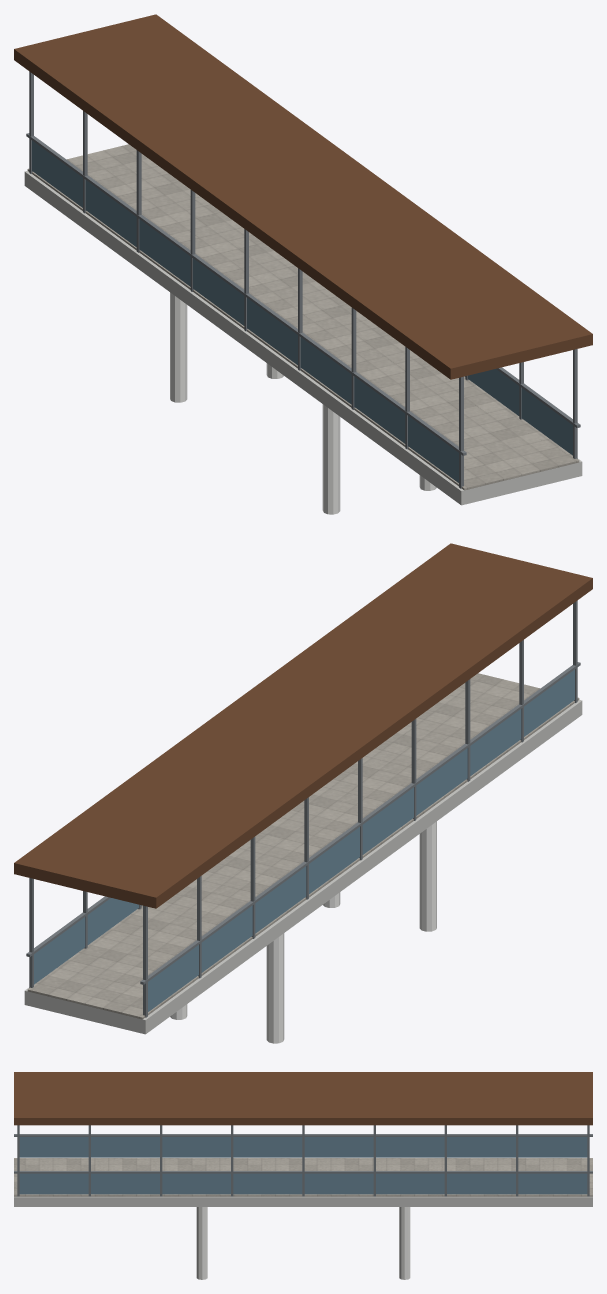
3 renders of one model, top to bottom at view 1: azimuth 30°, elevation 25°; view 2: azimuth 150°, elevation 25°; view 3: azimuth 270°, elevation 25°, orthographic. The views are drawn at different scales.
Parts seen in each view (by area): view 1: court-bridge__brown, court-bridge__stone, court-bridge__glass, court-bridge__concrete, court-bridge__frame, court-bridge__column; view 2: court-bridge__brown, court-bridge__stone, court-bridge__glass, court-bridge__concrete, court-bridge__frame, court-bridge__column; view 3: court-bridge__brown, court-bridge__glass, court-bridge__stone, court-bridge__concrete, court-bridge__frame, court-bridge__column.
Part boxes in pixels (x1,y1,x2,y2): court-bridge__brown: (14,14,592,379); court-bridge__stone: (27,144,579,490); court-bridge__glass: (32,140,572,482); court-bridge__concrete: (24,171,582,505); court-bridge__frame: (26,71,580,488); court-bridge__column: (170,292,436,514); court-bridge__brown: (14,543,592,908); court-bridge__stone: (27,673,579,1019); court-bridge__glass: (34,669,574,1011); court-bridge__concrete: (24,700,582,1034); court-bridge__frame: (26,600,580,1017); court-bridge__column: (170,821,436,1043); court-bridge__brown: (14,1072,592,1125); court-bridge__glass: (19,1137,587,1194); court-bridge__stone: (14,1158,592,1196); court-bridge__concrete: (14,1196,592,1206); court-bridge__frame: (14,1125,592,1196); court-bridge__column: (196,1207,410,1279).
Bounding box in the file's own units: 4.7 × 7.95 × 25.
Materials: 6 (1 with a texture image).
